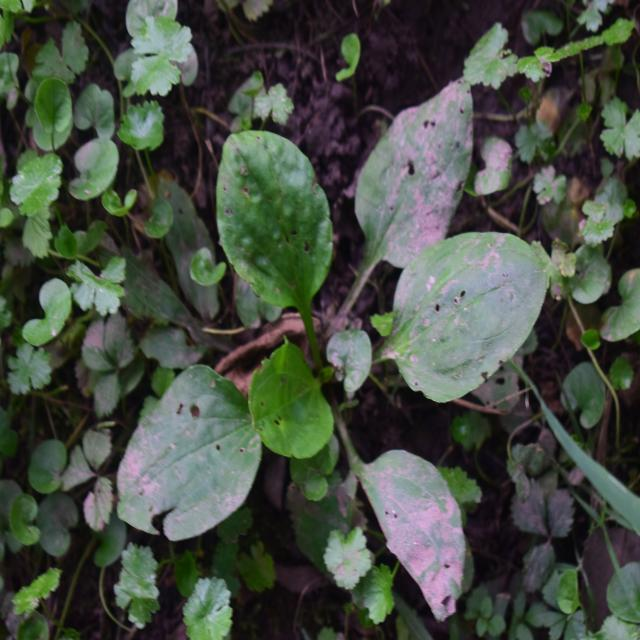plantain: (122, 128, 541, 573)
